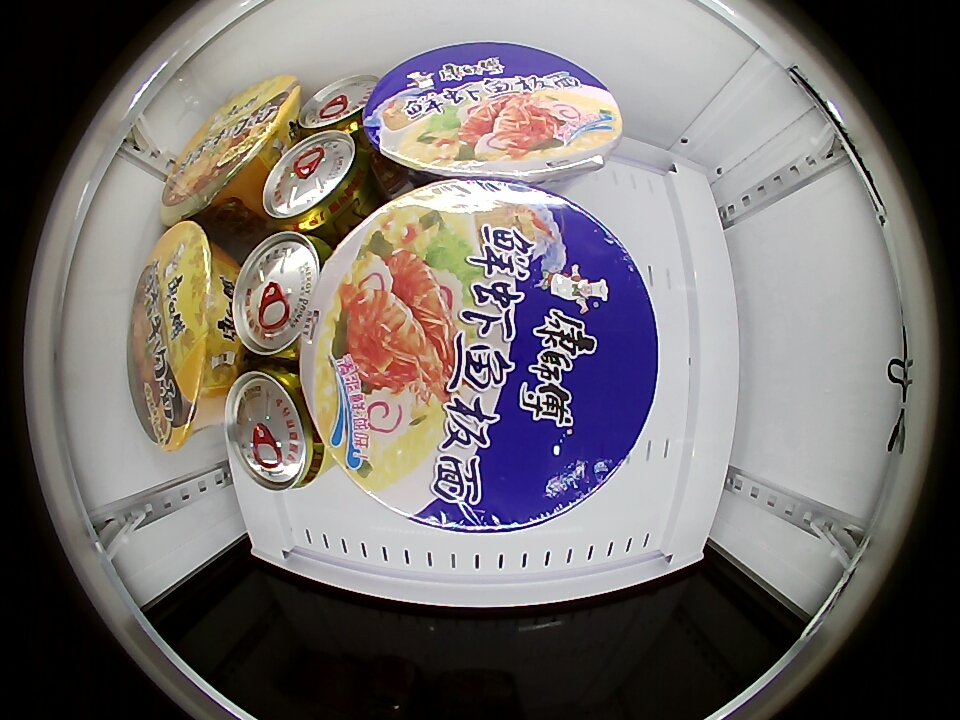dongpeng: (225, 365, 327, 493), (232, 230, 330, 359), (262, 130, 374, 235), (298, 74, 378, 137)
luxiangniurou: (130, 221, 229, 453), (162, 73, 299, 222)
xianxiayuban: (299, 180, 659, 536), (362, 43, 623, 183)
